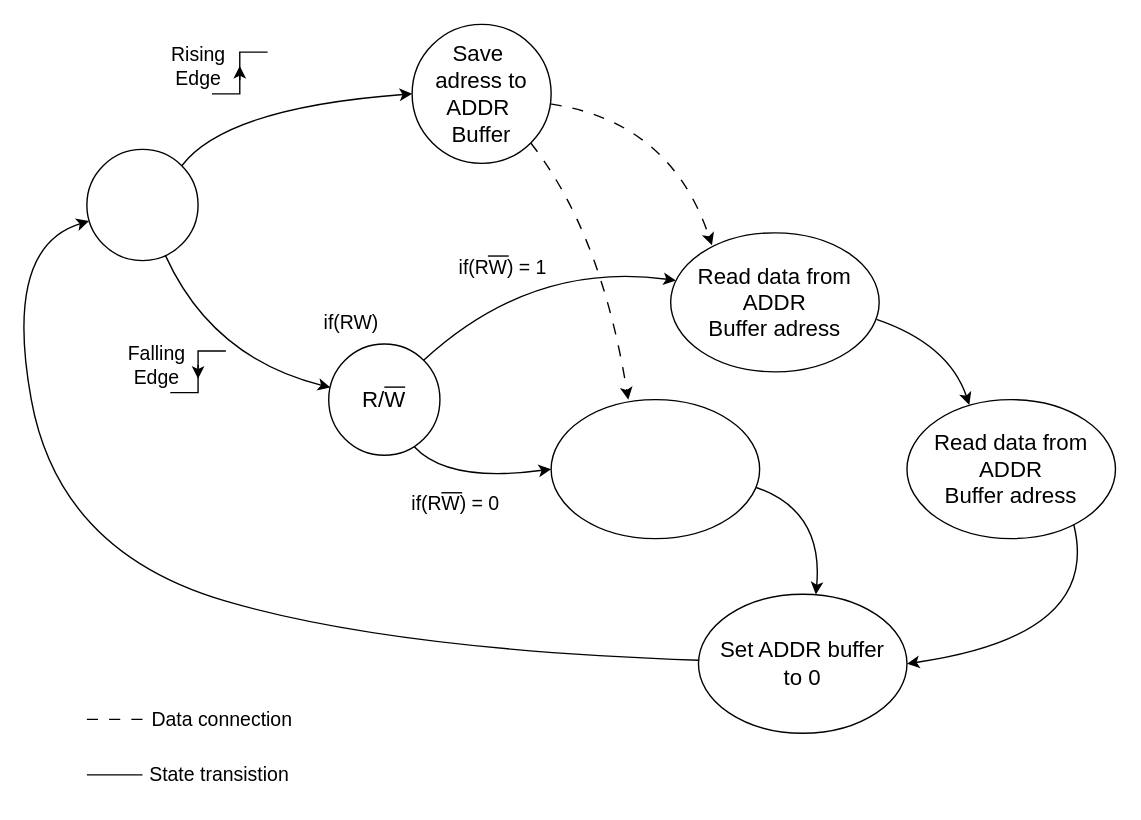
Image size: 1141x820. Some labels were removed from this diagram. Each missing label, with the centre of its shape:
"CLK" goes at (x=141, y=204).
"Write data to ADDR Buffer adress" goes at (x=655, y=468).
